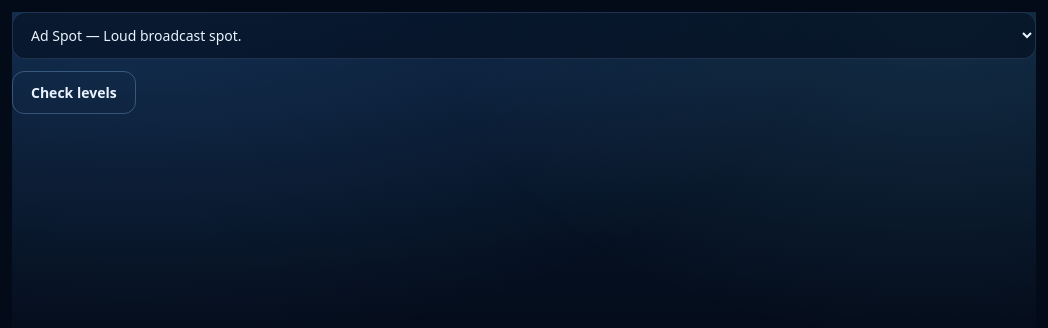
it: LevelCheck › keeps the head spec out of the Ad Spot unchanged note
This screenshot has width=1048, height=328.
Click the button "Check levels" at x=74, y=92, box [12,71,136,114]
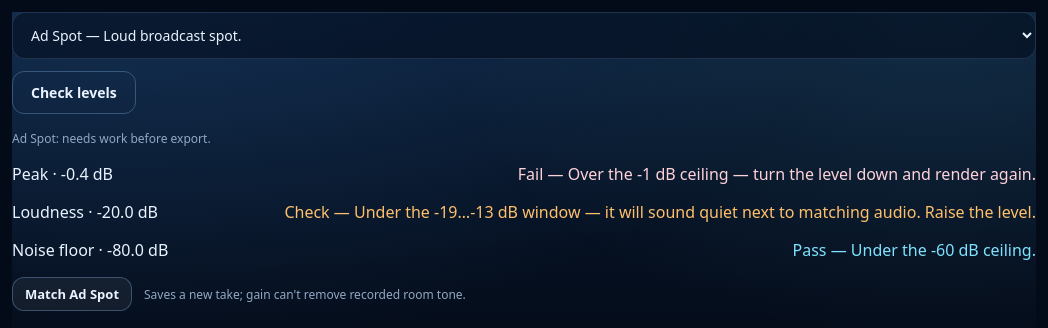
Click the button "Match Ad Spot" at x=72, y=294, box [12,277,132,311]
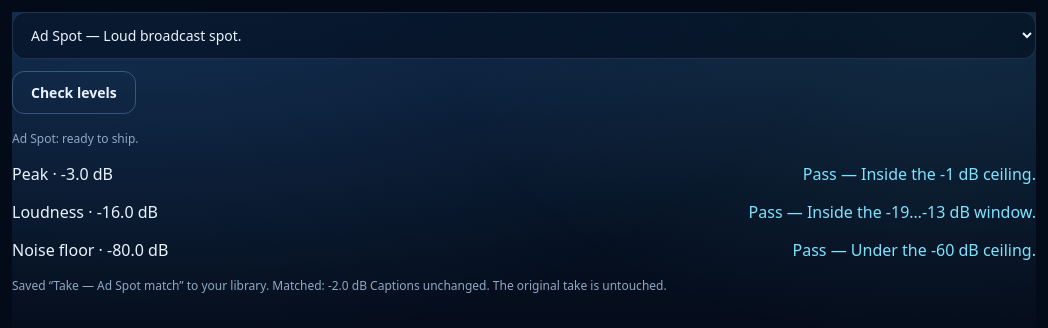
Now the text "Captions unchanged." is shown, box [367,277,490,294]
